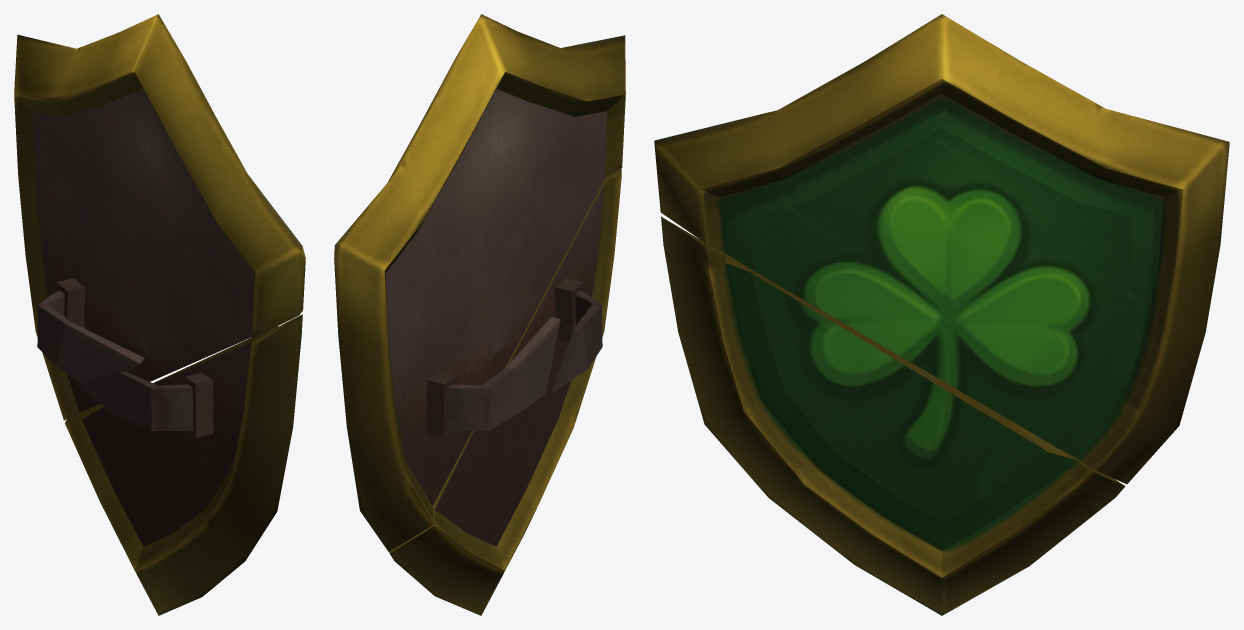
Rendered from Pie_Knight_Shield_Piece.fbx.
3 views of the same model, side by side, from view 1: azimuth 30°, elevation 25°; view 2: azimuth 150°, elevation 25°; view 3: azimuth 270°, elevation 25° (orthographic).
Visible parts, largest first — view 1: Pie_Knight_Shield_Piece.000, Pie_Knight_Shield_Piece.001; view 2: Pie_Knight_Shield_Piece.000, Pie_Knight_Shield_Piece.001; view 3: Pie_Knight_Shield_Piece.000, Pie_Knight_Shield_Piece.001.
Boxes of the visible parts, bbox=[...] form: Pie_Knight_Shield_Piece.000: bbox=[14, 14, 305, 420]; Pie_Knight_Shield_Piece.001: bbox=[65, 314, 302, 615]; Pie_Knight_Shield_Piece.000: bbox=[334, 14, 625, 551]; Pie_Knight_Shield_Piece.001: bbox=[389, 168, 621, 615]; Pie_Knight_Shield_Piece.000: bbox=[654, 14, 1229, 484]; Pie_Knight_Shield_Piece.001: bbox=[661, 216, 1125, 615].
Size of the model in its own units: 7.88 by 42.72 by 37.03.
